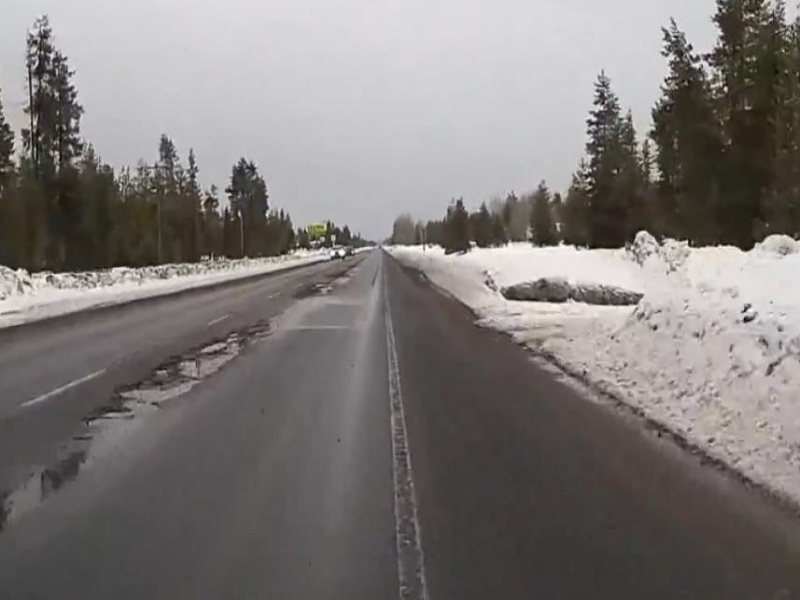pothole: (152, 351, 234, 385), (113, 376, 203, 402), (84, 401, 150, 433)
